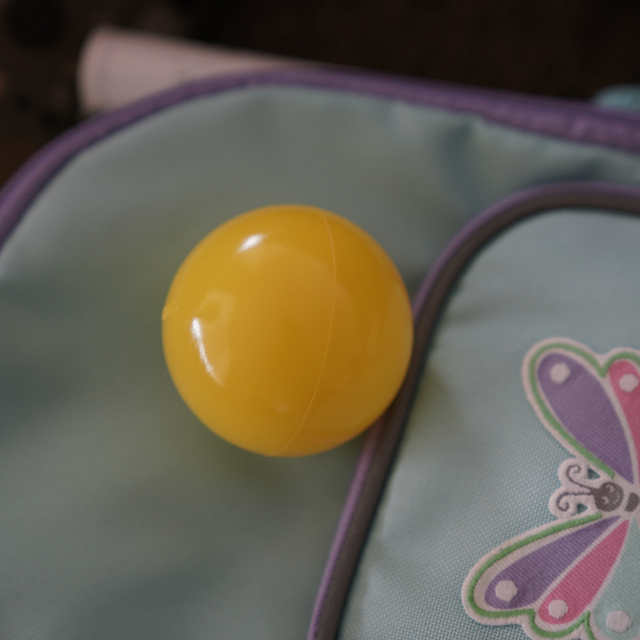Ball: (161, 204, 414, 454)
